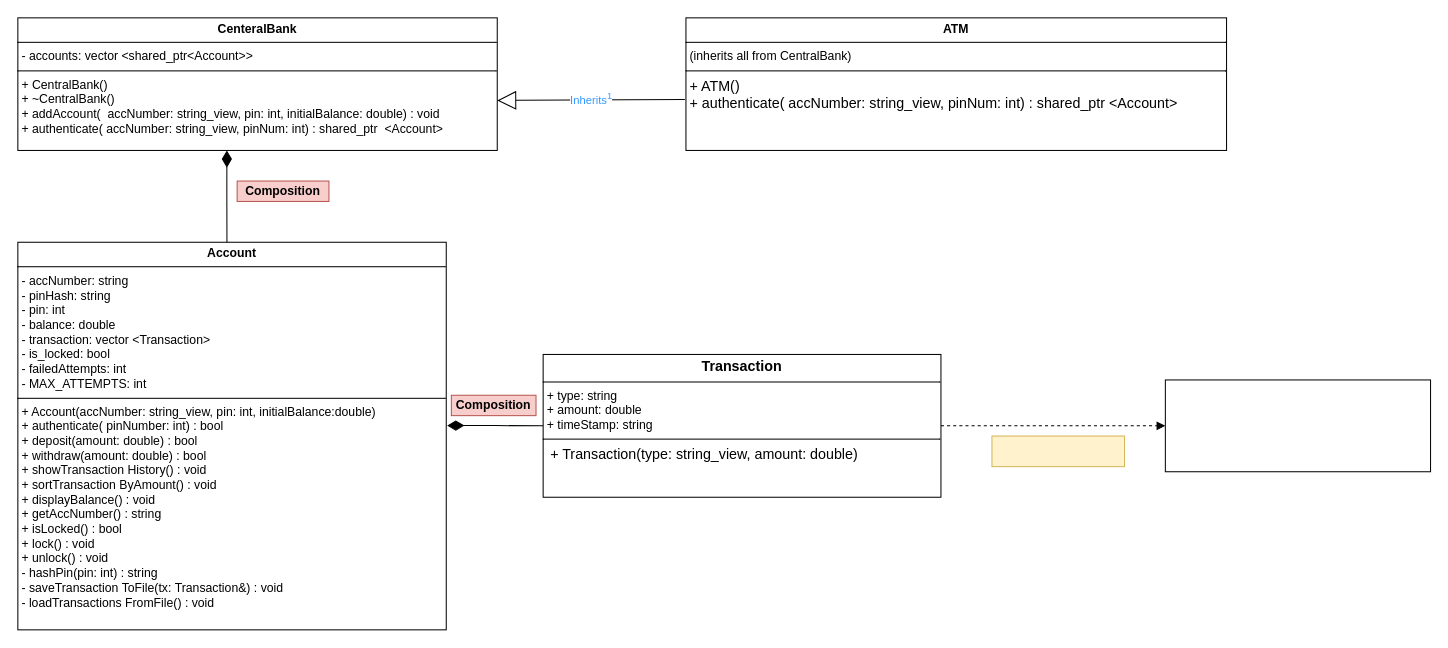
Some shapes in this 1448 by 648 pixel diagram are drawn without their labels. Here are the shapes that lost their labels. From the top down, the centre of each, then its label:
(1297,425): TimeUtils (no attributes) + getCurrentTime() : string
(1058,451): Dependency
